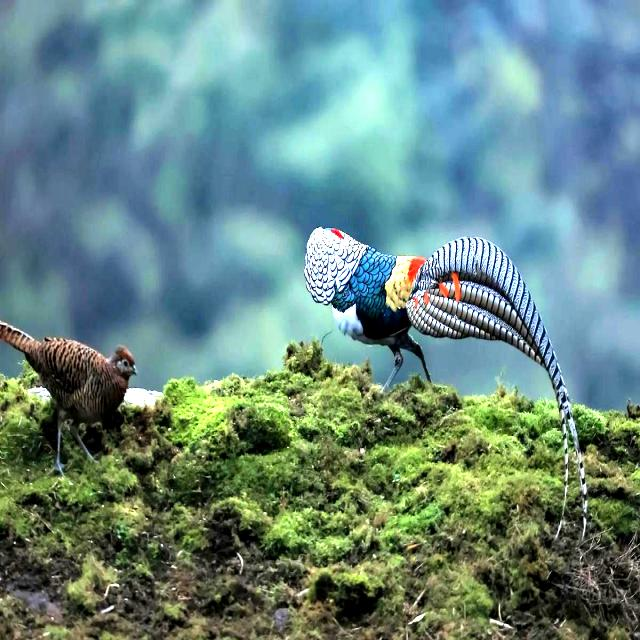Chrysolophus amherstiae: (406, 237, 579, 454)
